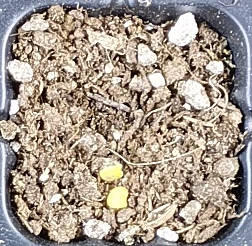chilli seed: (106, 186, 129, 209), (99, 165, 123, 180)
